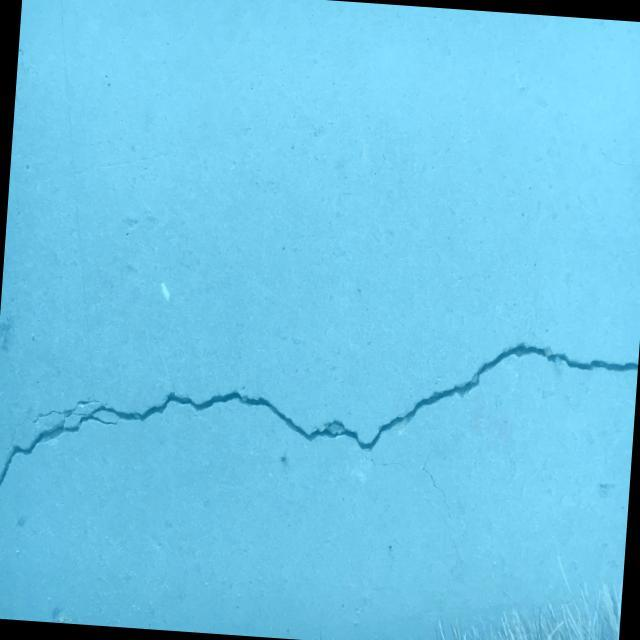crack: (0, 304, 639, 551), (418, 444, 454, 519)
